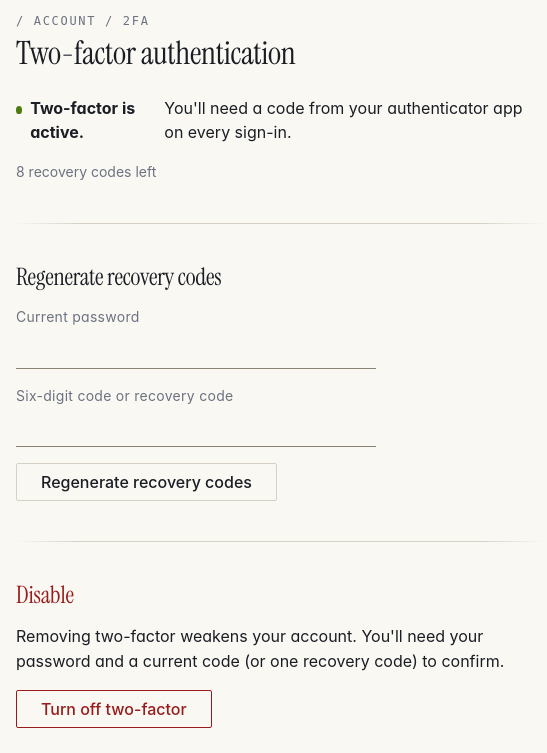
Test case: TwoFactorSetup error states › a refused recovery-code regeneration says why
The image size is (547, 753).
Type "pw" into the password field with id "regen-password" at (196, 350), box left=16, top=332, right=376, bottom=369
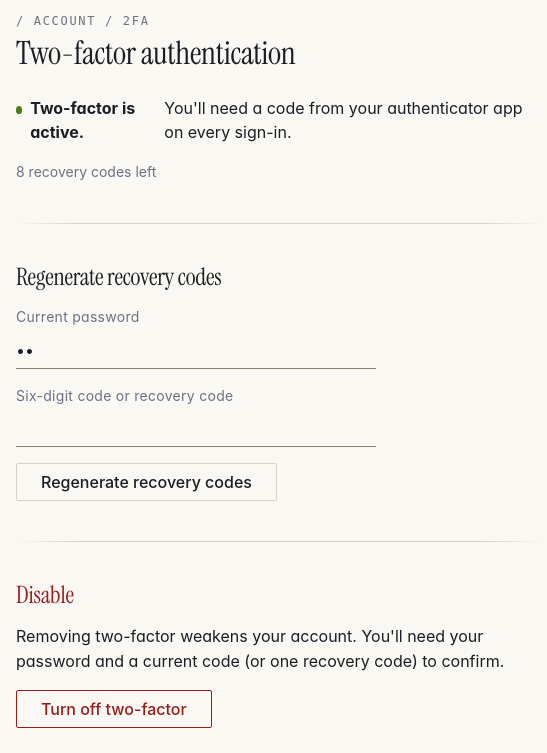
Type "123456" into the field with id "regen-code" at (196, 429), box left=16, top=411, right=376, bottom=447
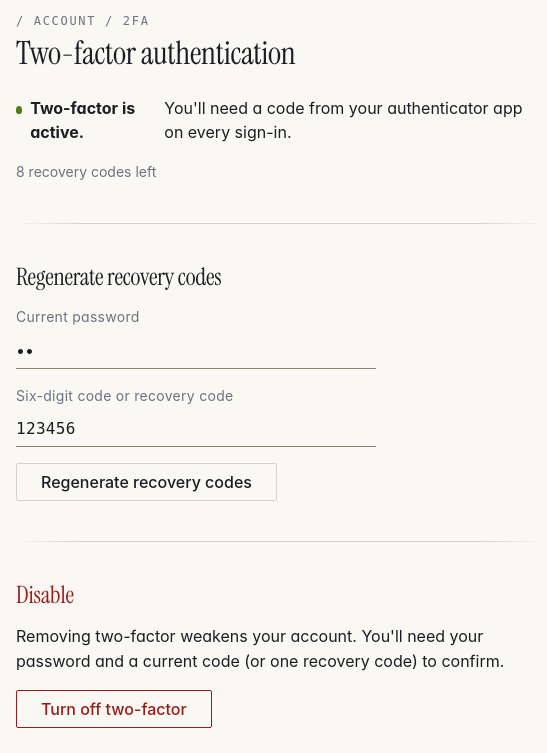
Submit the form with class "manage-form", box left=16, top=306, right=376, bottom=501
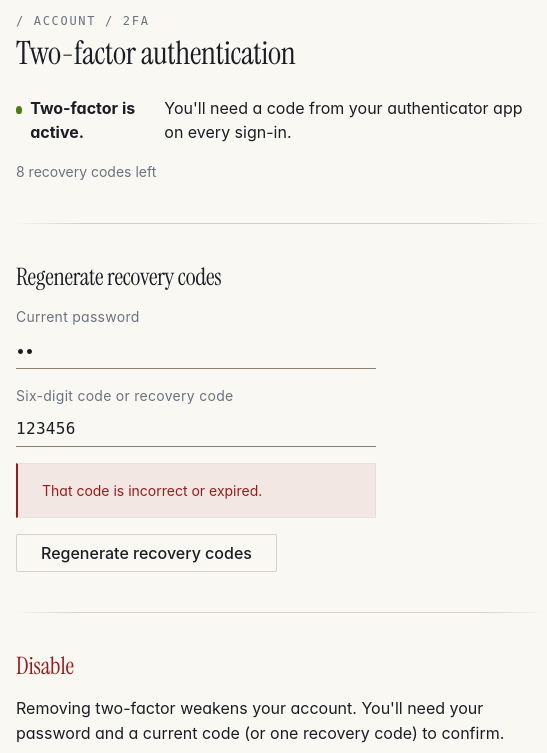
expect the message "That code is incorrect or expired." is shown: met, box left=16, top=463, right=376, bottom=518
